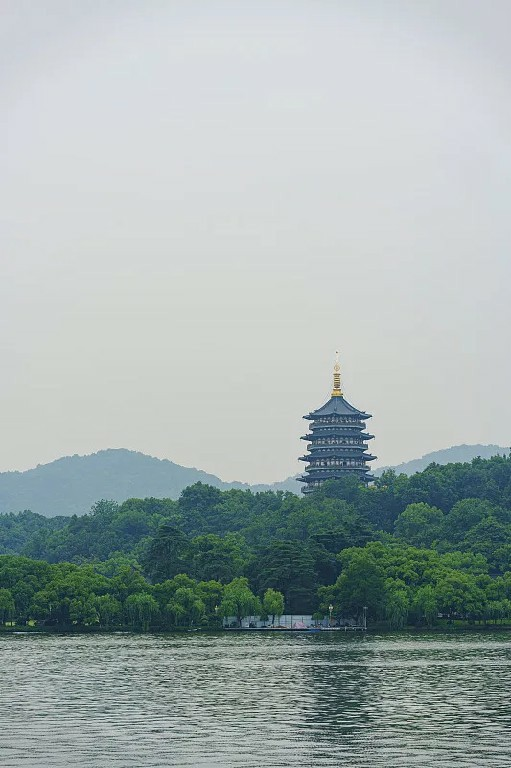Leifeng: (294, 347, 381, 497)
